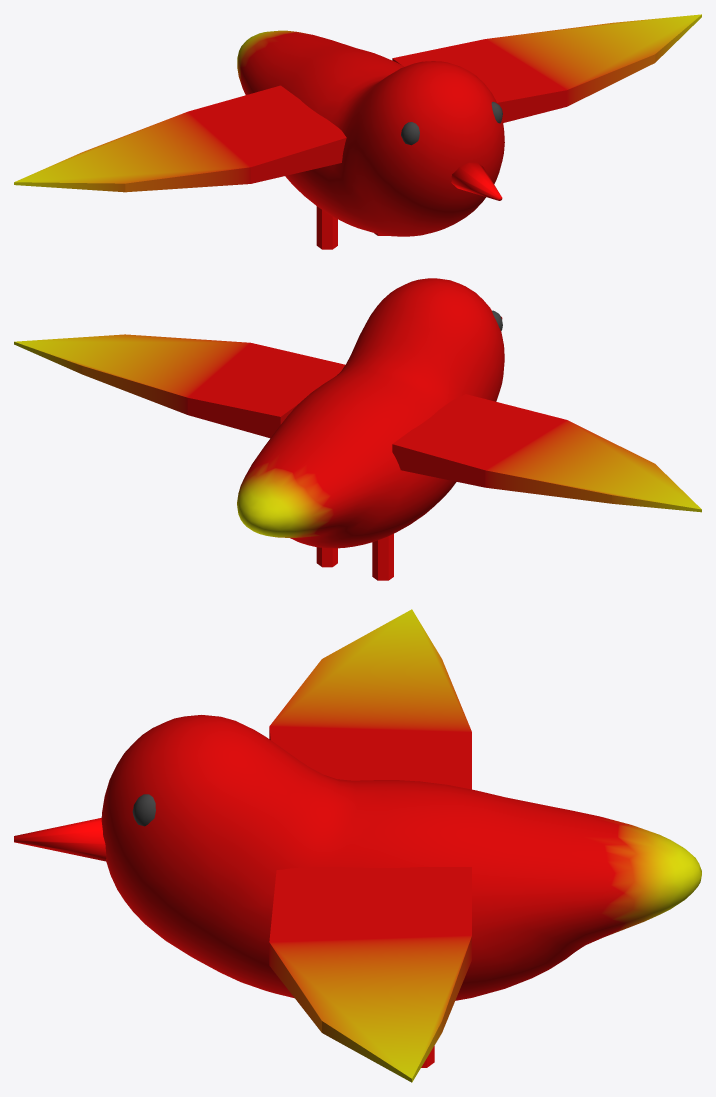
Rendered from bird.glb.
The picture shows the model from 3 angles, top to bottom: view 1: azimuth 30°, elevation 25°; view 2: azimuth 150°, elevation 25°; view 3: azimuth 270°, elevation 25°; orthographic projection. The views are drawn at different scales.
Parts seen in each view (by area): view 1: Body, WingR, WingL, Foot.001; view 2: Body, WingR, WingL, Foot.001; view 3: Body, WingL, WingR.
Boxes of the visible parts, bbox=[...] form: Body: bbox=[237, 30, 504, 236]; WingR: bbox=[14, 85, 346, 192]; WingL: bbox=[392, 14, 701, 122]; Foot.001: bbox=[316, 206, 337, 249]; Body: bbox=[237, 278, 504, 548]; WingR: bbox=[392, 394, 701, 512]; WingL: bbox=[14, 334, 345, 438]; Foot.001: bbox=[372, 533, 393, 580]; Body: bbox=[14, 715, 701, 1000]; WingL: bbox=[269, 867, 471, 1082]; WingR: bbox=[269, 609, 471, 789].
Size of the model in its own units: 1.48 by 0.4689 by 0.916.
